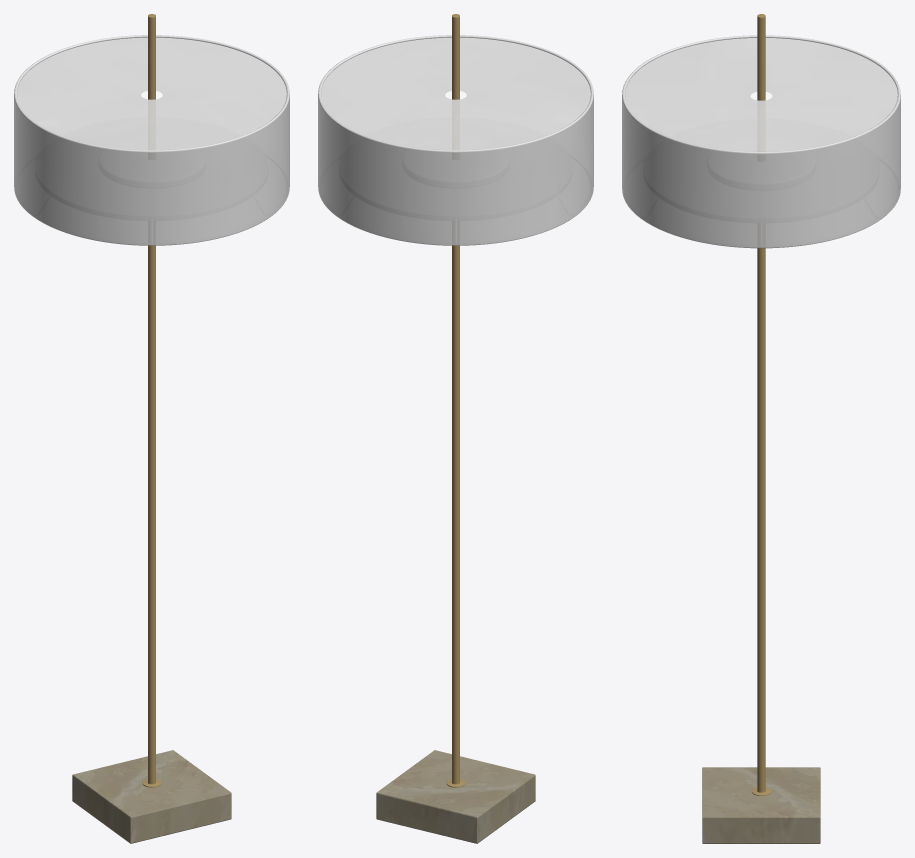
File: stockholm_2025_floor_lamp_white_textile_.glb
3 views of the same model, side by side, from view 1: azimuth 30°, elevation 25°; view 2: azimuth 150°, elevation 25°; view 3: azimuth 270°, elevation 25° (orthographic).
Visible parts, largest first — view 1: 80585917_floor_lamp:2.001, 80585917_floor_lamp:1.001, 80585917_floor_lamp:3.001; view 2: 80585917_floor_lamp:2.001, 80585917_floor_lamp:1.001, 80585917_floor_lamp:3.001; view 3: 80585917_floor_lamp:2.001, 80585917_floor_lamp:1.001, 80585917_floor_lamp:3.001.
Boxes of the visible parts, x1,y1,x2,y2 form: 80585917_floor_lamp:2.001: (14,35,289,245); 80585917_floor_lamp:1.001: (72,750,231,843); 80585917_floor_lamp:3.001: (142,14,161,787); 80585917_floor_lamp:2.001: (318,35,593,245); 80585917_floor_lamp:1.001: (376,750,535,843); 80585917_floor_lamp:3.001: (446,14,465,787); 80585917_floor_lamp:2.001: (622,35,900,248); 80585917_floor_lamp:1.001: (702,767,820,843); 80585917_floor_lamp:3.001: (752,14,770,795).
Bounding box in the file's own units: 0.5 × 1.59 × 0.5.
6 materials, 2 textured.
